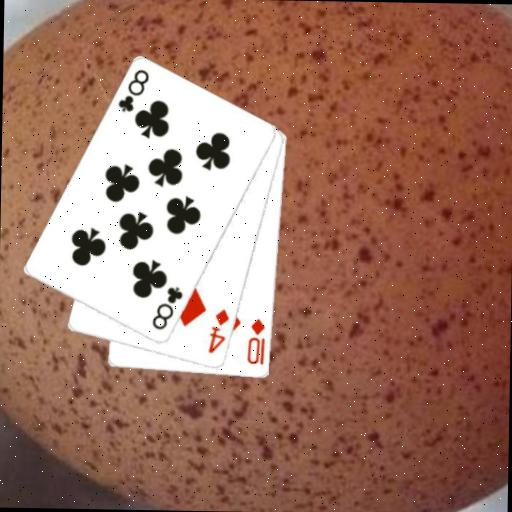10D: (244, 316, 267, 367)
4D: (205, 307, 231, 356)
8C: (149, 284, 185, 333), (115, 66, 151, 115)
